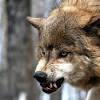Lobo: (17, 1, 93, 97)
